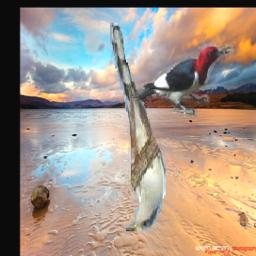Cuckoo: (111, 23, 167, 231)
Woodpecker: (131, 42, 234, 118)
